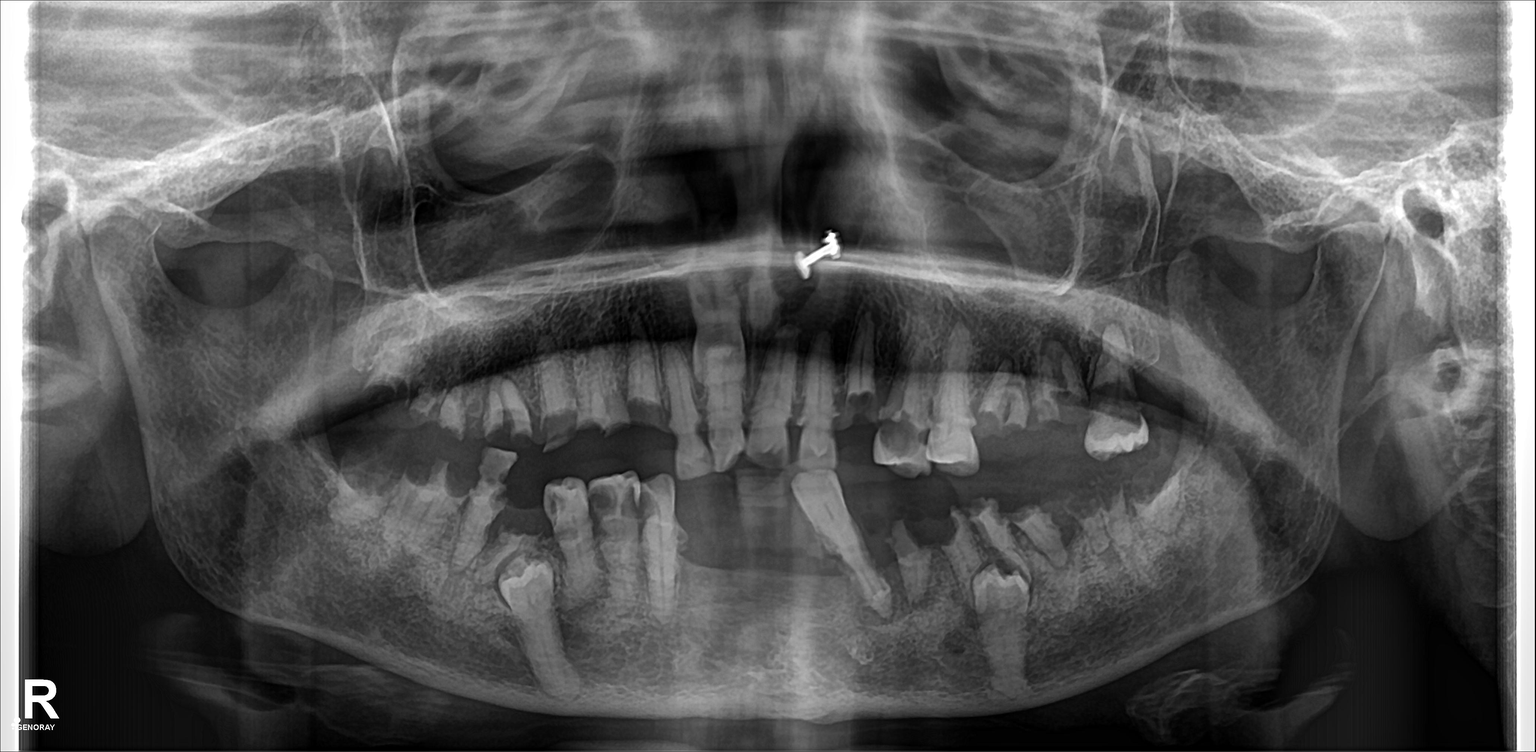Dental Caries: (1095, 385, 1138, 438), (879, 415, 924, 462), (611, 488, 660, 526), (588, 486, 614, 512)
Missing Tooth: (756, 486, 805, 639), (715, 478, 760, 609), (1140, 465, 1192, 544), (678, 493, 714, 605), (816, 519, 851, 630), (372, 382, 410, 459)
Retained Root: (333, 454, 389, 554), (1032, 348, 1082, 451), (1142, 339, 1184, 436), (933, 493, 973, 587), (574, 359, 618, 442), (983, 359, 1024, 448), (482, 374, 526, 448), (888, 508, 927, 587), (402, 471, 435, 560), (980, 493, 1015, 572), (441, 456, 469, 554), (1071, 484, 1104, 567), (633, 357, 666, 438), (1106, 488, 1141, 562), (1021, 493, 1056, 562), (436, 372, 468, 444), (849, 363, 876, 444), (542, 370, 569, 436), (410, 382, 434, 451)
